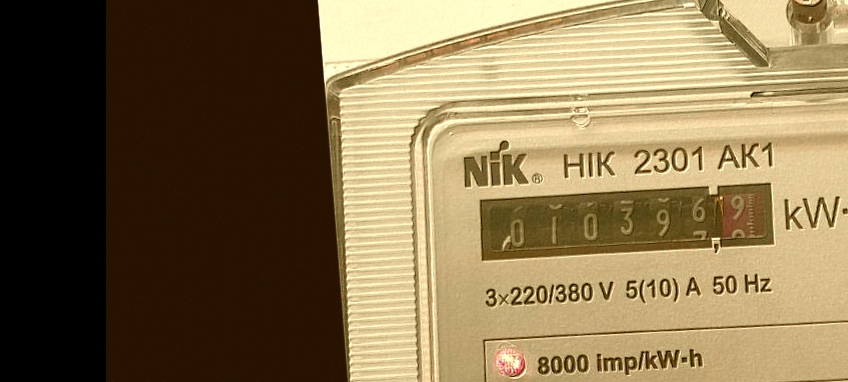0: (579, 209, 603, 243), (506, 215, 529, 249)
1: (547, 212, 562, 246)
3: (618, 204, 638, 238)
6: (688, 194, 711, 225)
9: (652, 205, 674, 240), (726, 193, 749, 224)
screen: (463, 164, 788, 282)
